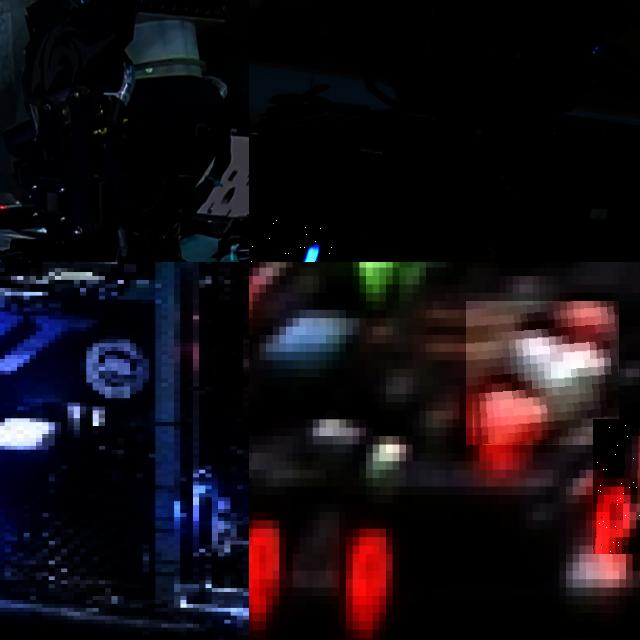Bs: (249, 214, 334, 262)
R4: (466, 301, 619, 445), (249, 495, 399, 638), (592, 419, 640, 553)
